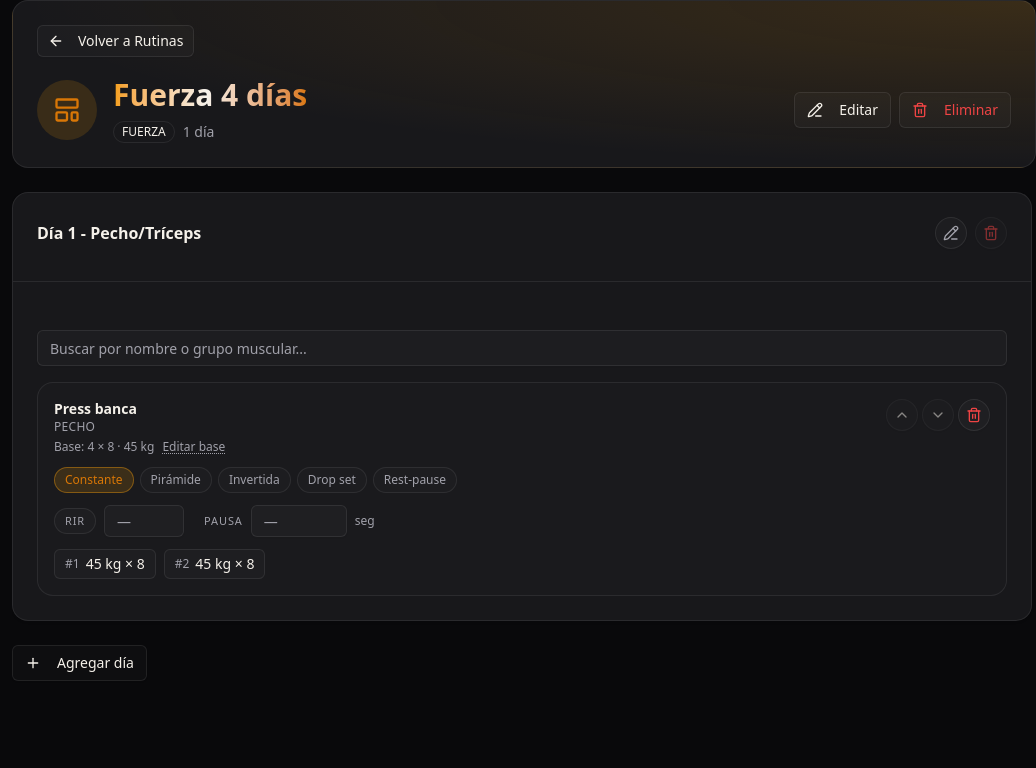
Scenario: detalle de plantilla de rutina — borrador y guardado › el buscador no ofrece un ejercicio ya agregado a ese día
Expected: the text "Día 1 - Pecho/Tríceps" is shown, [37,225,201,241]
Type "e" into the field named "Buscar ejercicio para el Día 1" at (522, 348), box [37,330,1007,366]
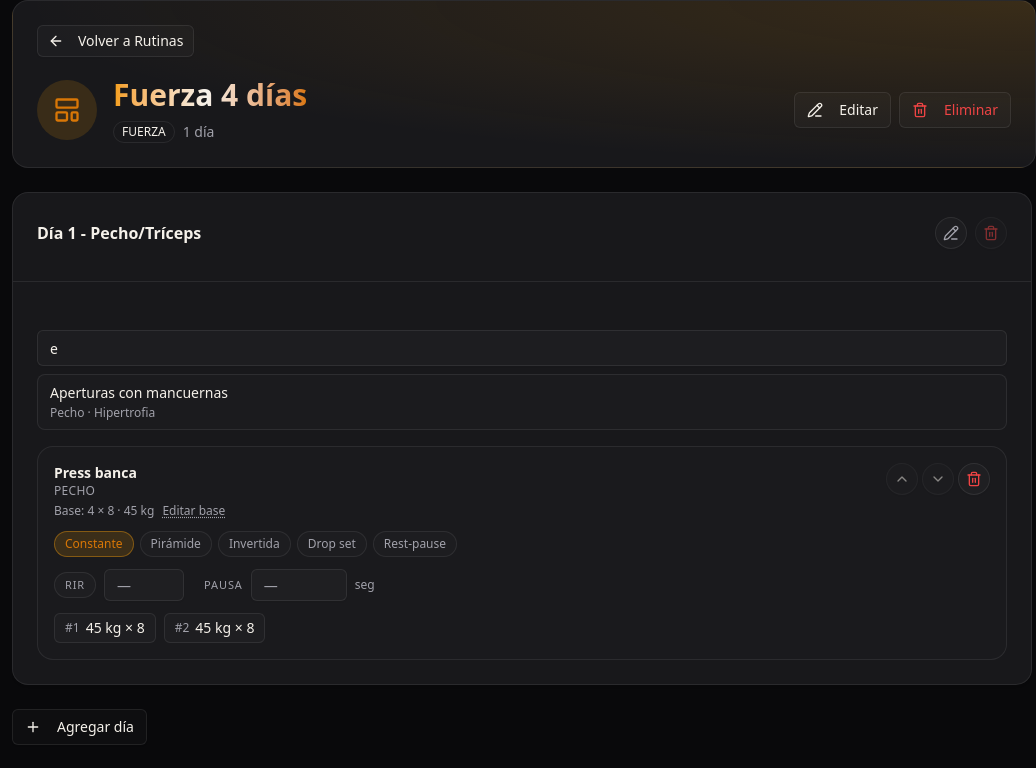
Expected: the button "Aperturas con mancuernas Pecho · Hipertrofia" is shown, [38,375,1006,429]
